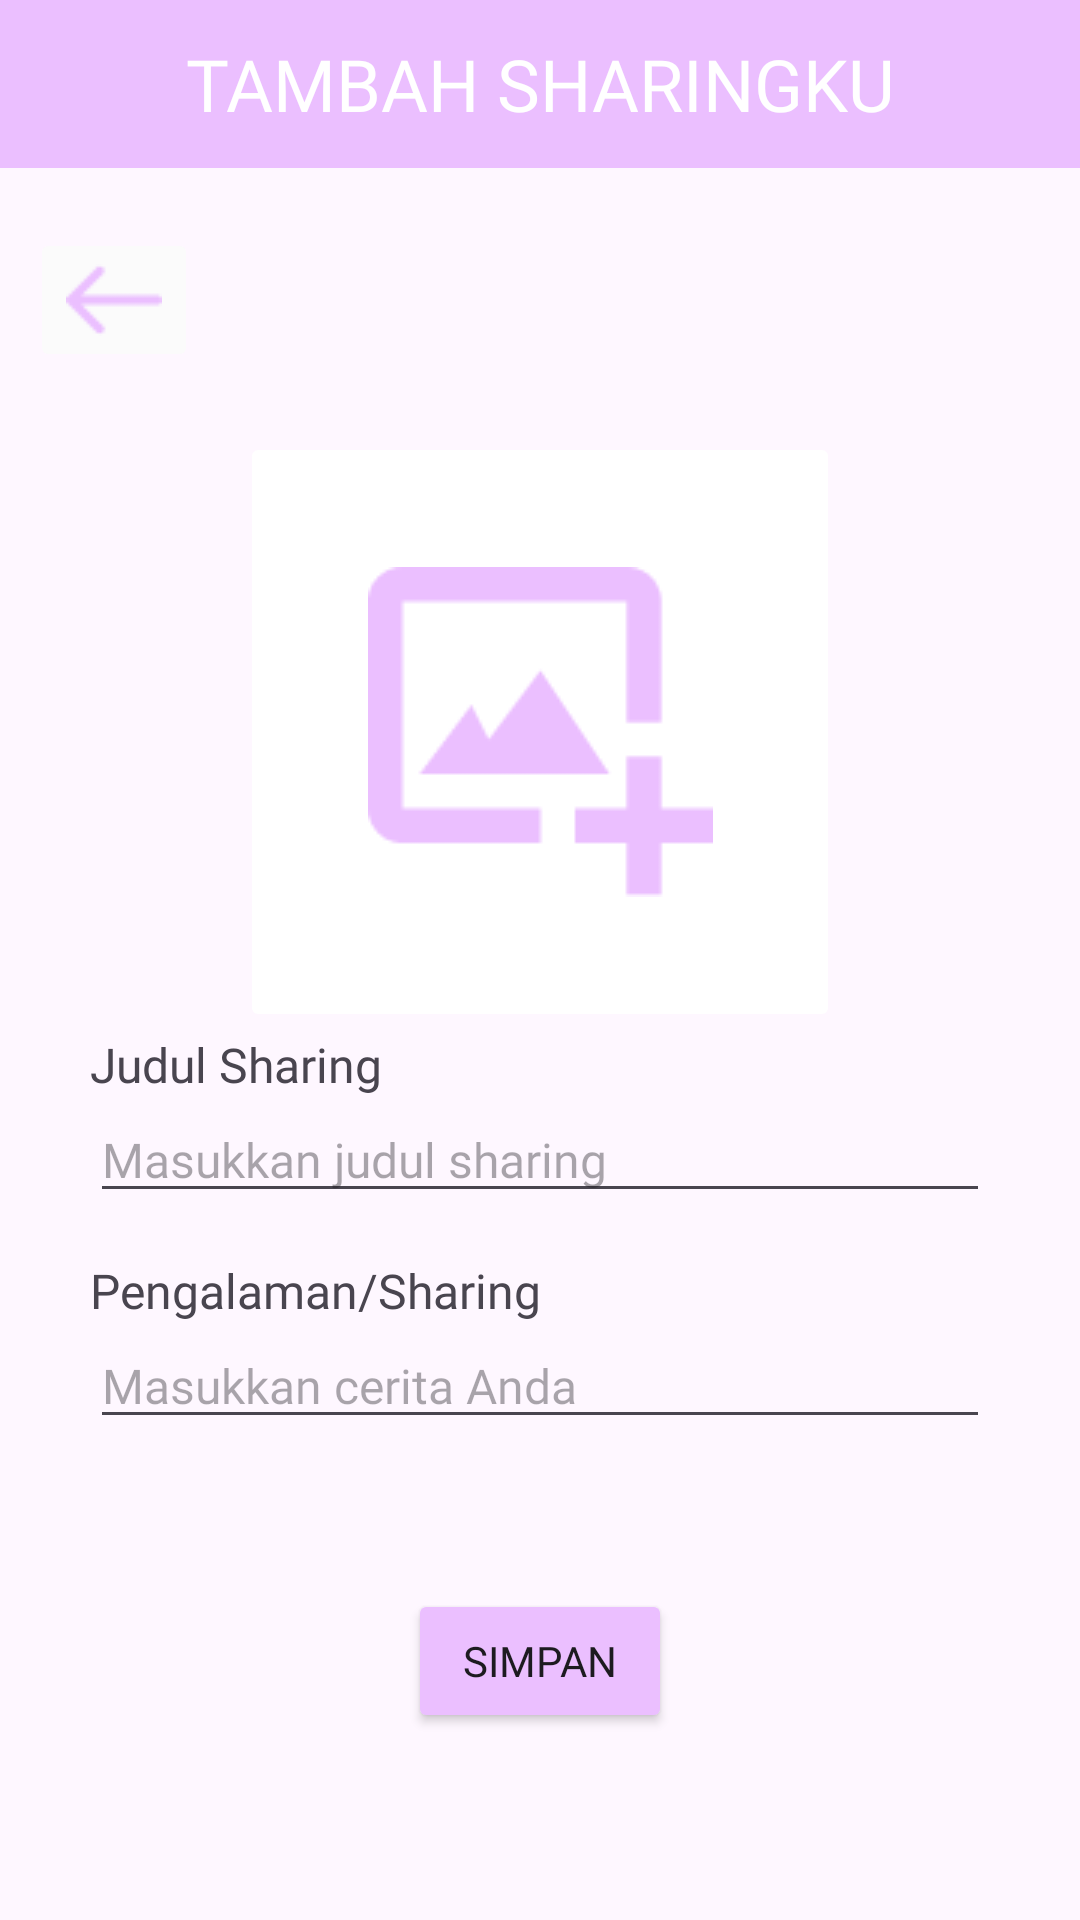

Where to tap for icons on this 1080×1920 app screen, as point (x, y):
Back: point (114, 300)
Upload gambar: point (540, 730)
